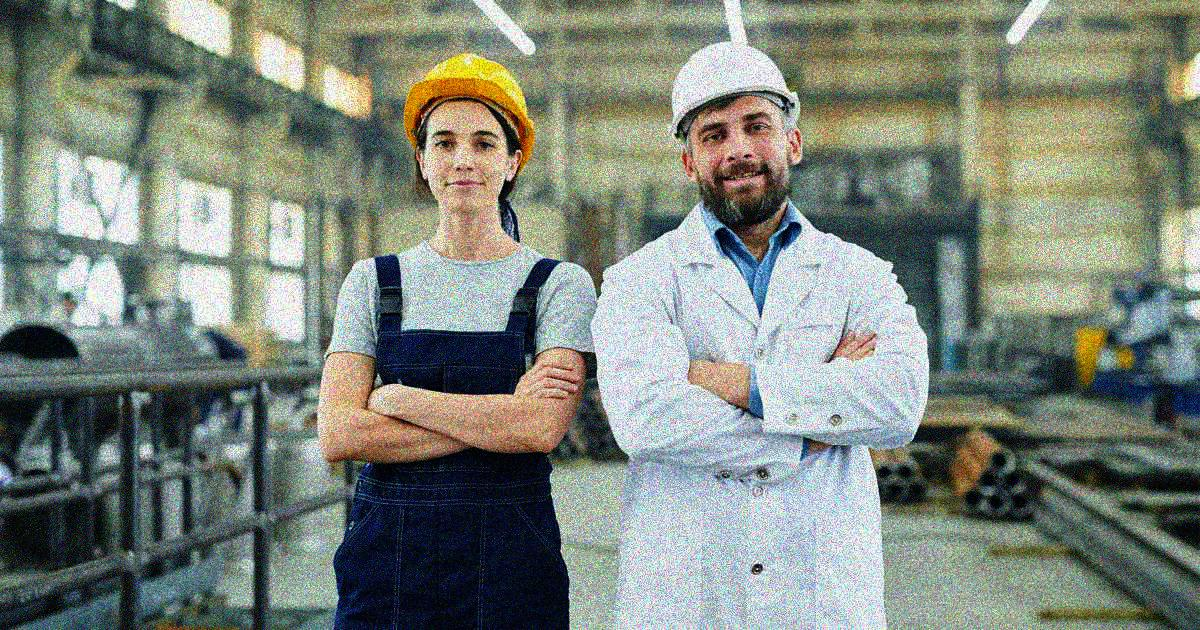helmet: (664, 39, 814, 215), (403, 52, 534, 205)
